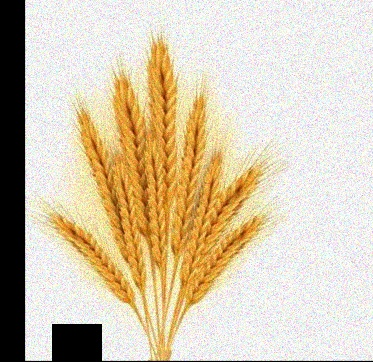wheat: (74, 97, 145, 299), (188, 147, 279, 295), (27, 197, 136, 311), (109, 55, 159, 275), (136, 35, 177, 277), (166, 82, 208, 269), (180, 140, 224, 279)
